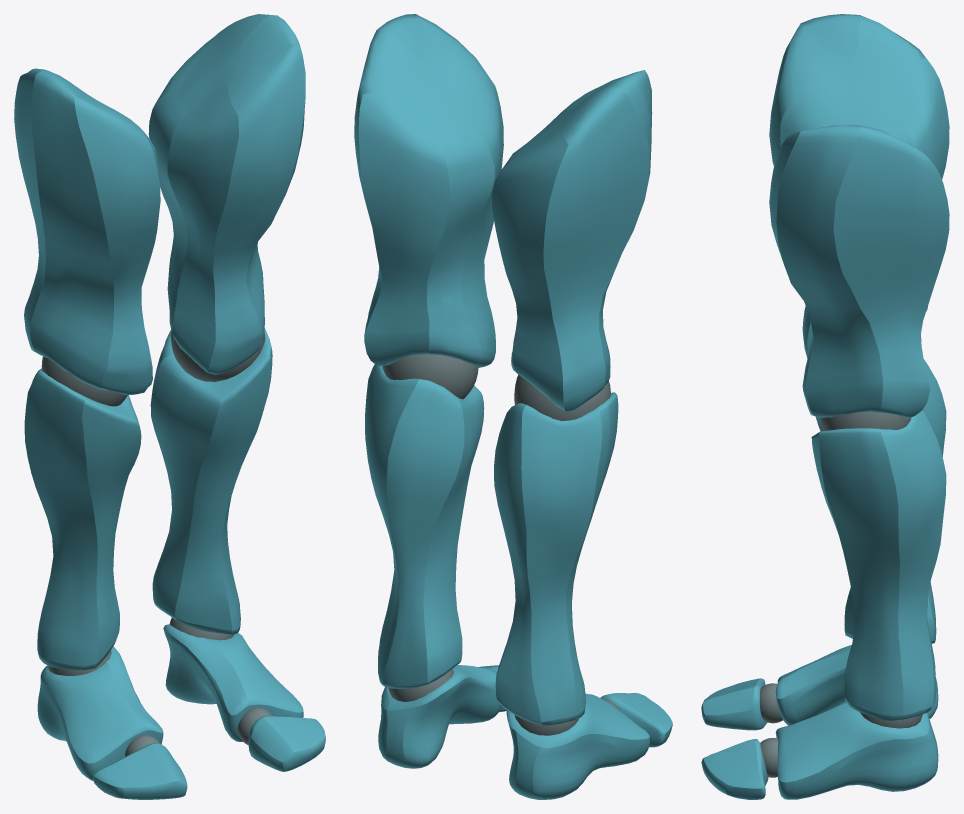
File: Legs.fbx
3 views of the same model, side by side, from view 1: azimuth 30°, elevation 25°; view 2: azimuth 150°, elevation 25°; view 3: azimuth 270°, elevation 25° (orthographic). The views are drawn at different scales.
Visible parts, largest first — view 1: Alpha_Surface, Alpha_Joints; view 2: Alpha_Surface, Alpha_Joints; view 3: Alpha_Surface, Alpha_Joints.
Boxes of the visible parts, <box> form: Alpha_Surface: <box>14,14,325,799</box>; Alpha_Joints: <box>41,329,272,756</box>; Alpha_Surface: <box>354,14,672,799</box>; Alpha_Joints: <box>382,354,619,735</box>; Alpha_Surface: <box>701,14,949,799</box>; Alpha_Joints: <box>760,412,922,777</box>.
Size of the model in its own units: 39.12 by 95.94 by 31.56.
